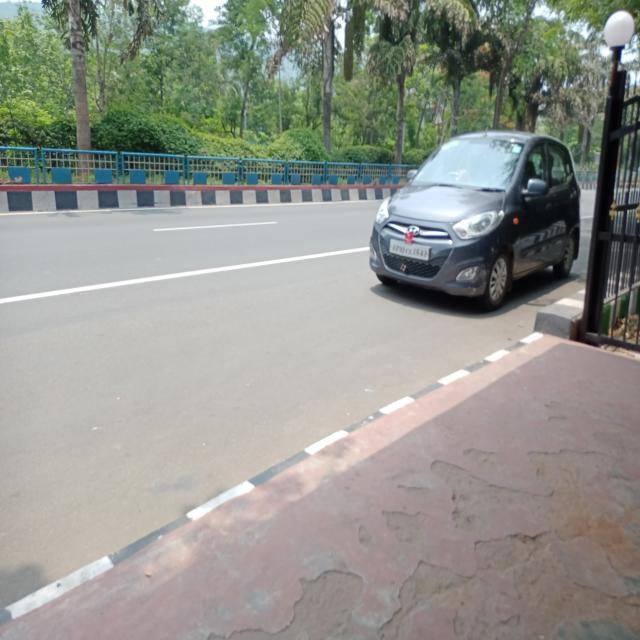car: (367, 120, 589, 326)
